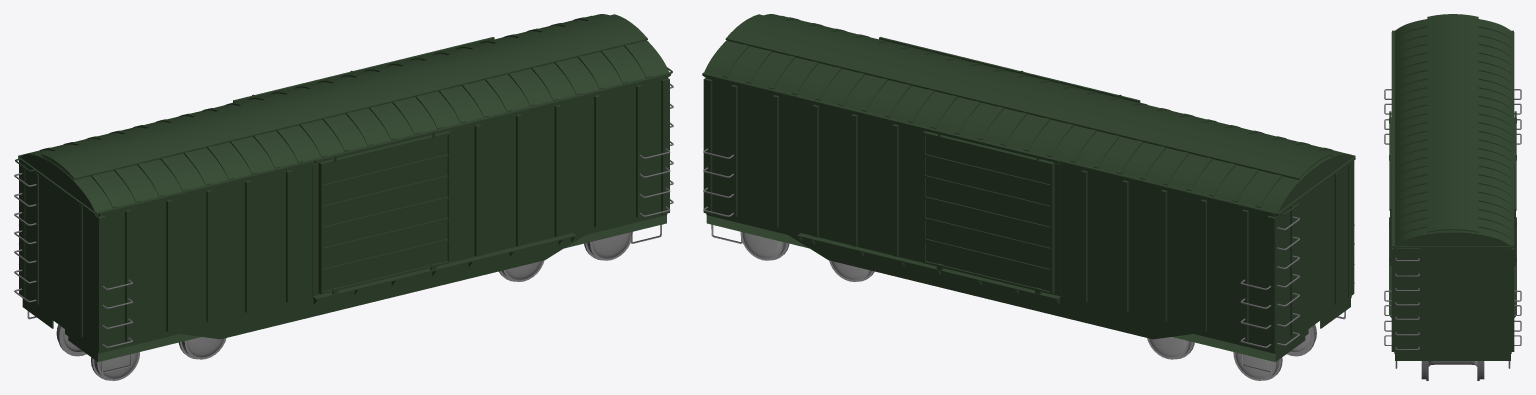
File: Trailer (Green).fbx
The picture shows the model from 3 angles, left to right: view 1: azimuth 30°, elevation 25°; view 2: azimuth 150°, elevation 25°; view 3: azimuth 270°, elevation 25°; orthographic projection. The views are drawn at different scales.
Parts seen in each view (by area): view 1: Trailer; view 2: Trailer; view 3: Trailer.
Boxes of the visible parts, <box> form: Trailer: <box>14,14,673,380</box>; Trailer: <box>702,14,1355,380</box>; Trailer: <box>1384,14,1521,380</box>.
Size of the model in its own units: 12402 by 4336 by 3264.
